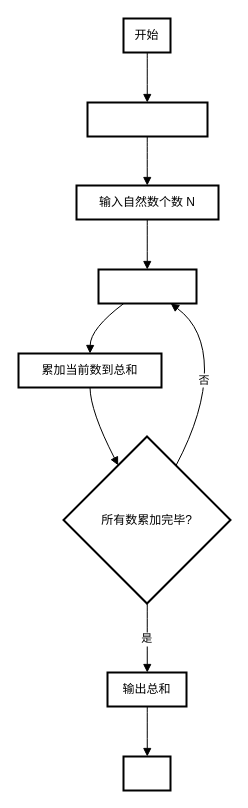
The diagram is 248 pixels wide and 808 high, and some of its shapes have lost their labels. Here are the shapes that lost their labels. From the top down, the box of each, then its label:
(86, 101, 208, 137): 初始化总和为0
(97, 268, 197, 304): 从1至N迭代
(122, 755, 171, 791): 结束
